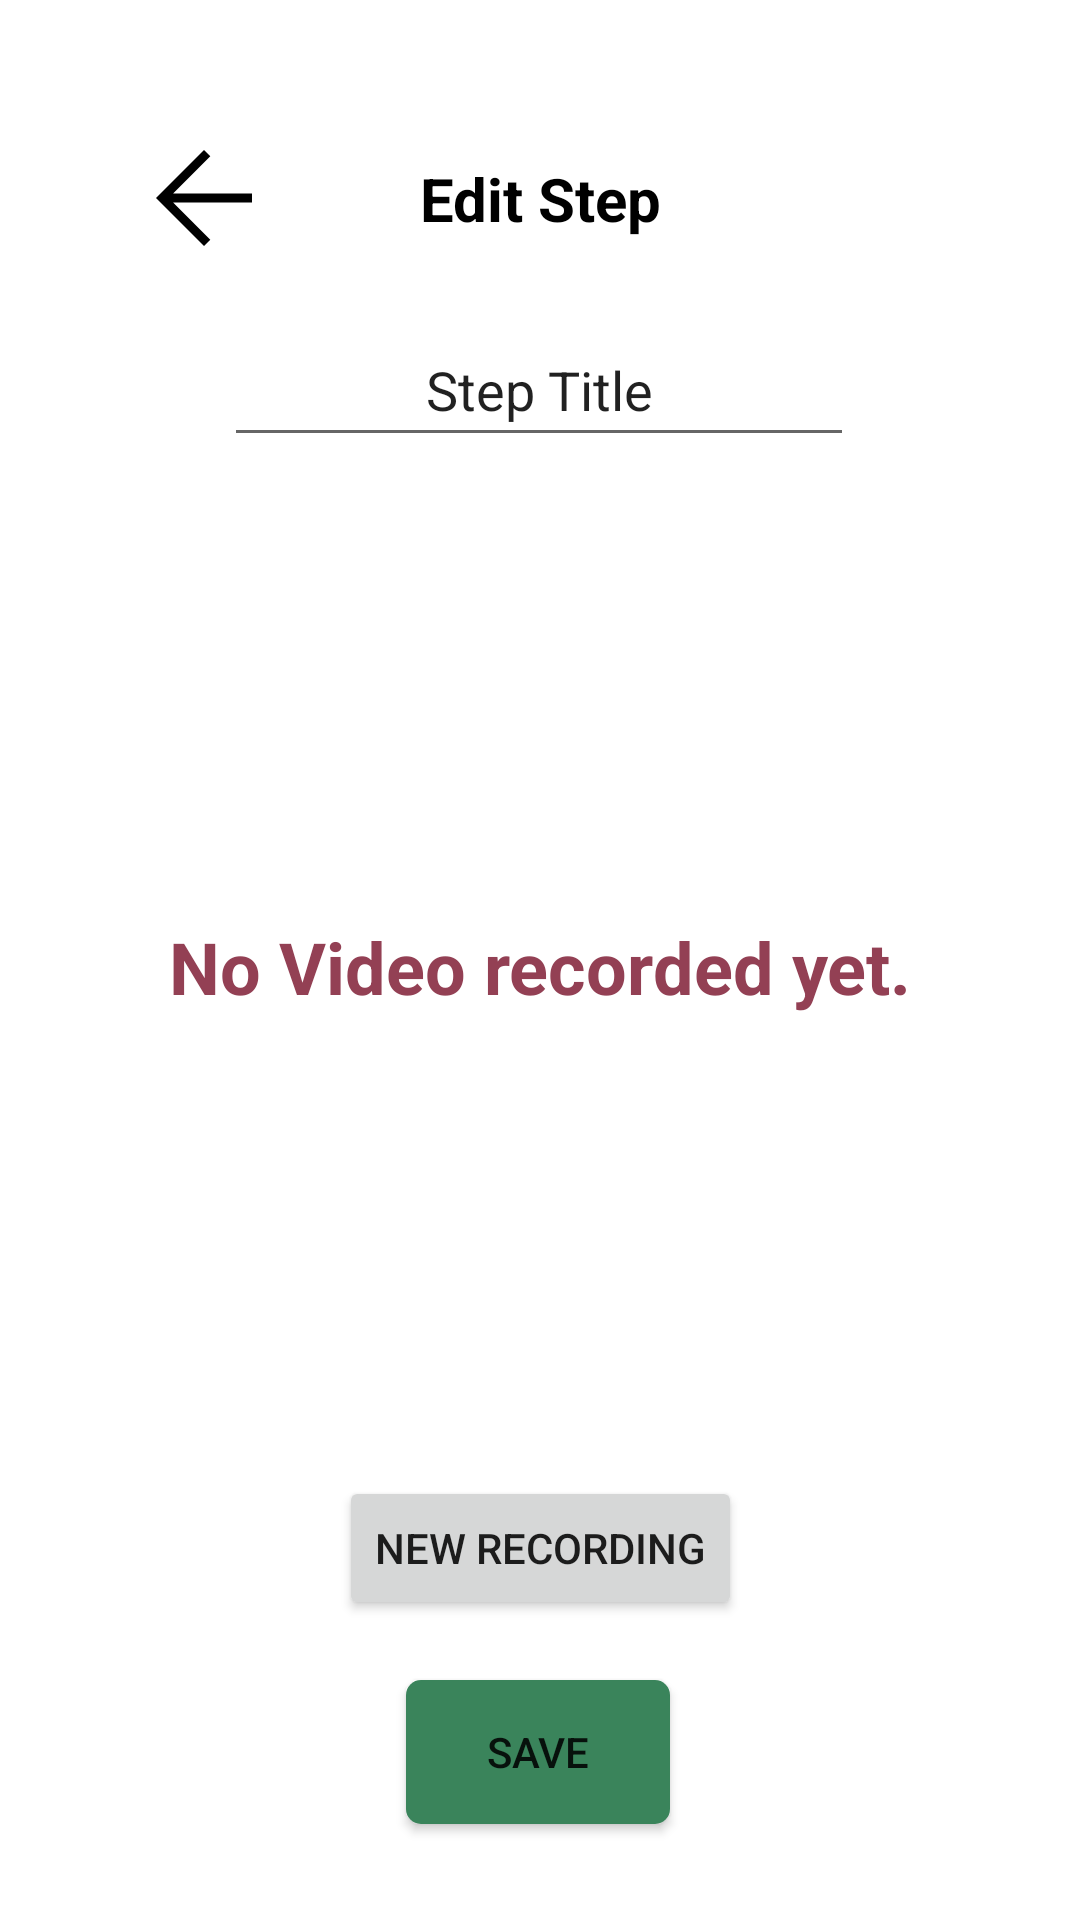

Named icons in this screenshot (1080 × 1920) and their centers, (x,y):
Back: (204,198)
